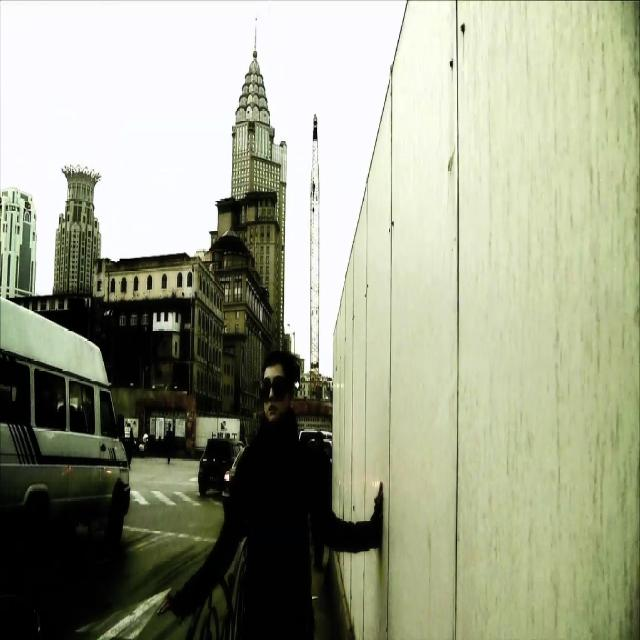car: (197, 433, 241, 500)
